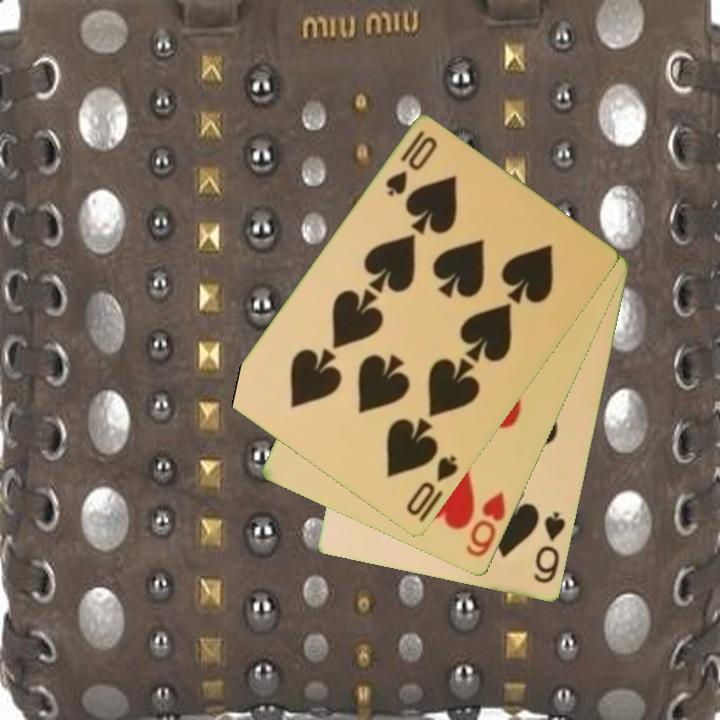10s: (382, 127, 441, 200), (402, 452, 462, 520)
6h: (463, 488, 509, 561)
6s: (530, 508, 569, 587)
